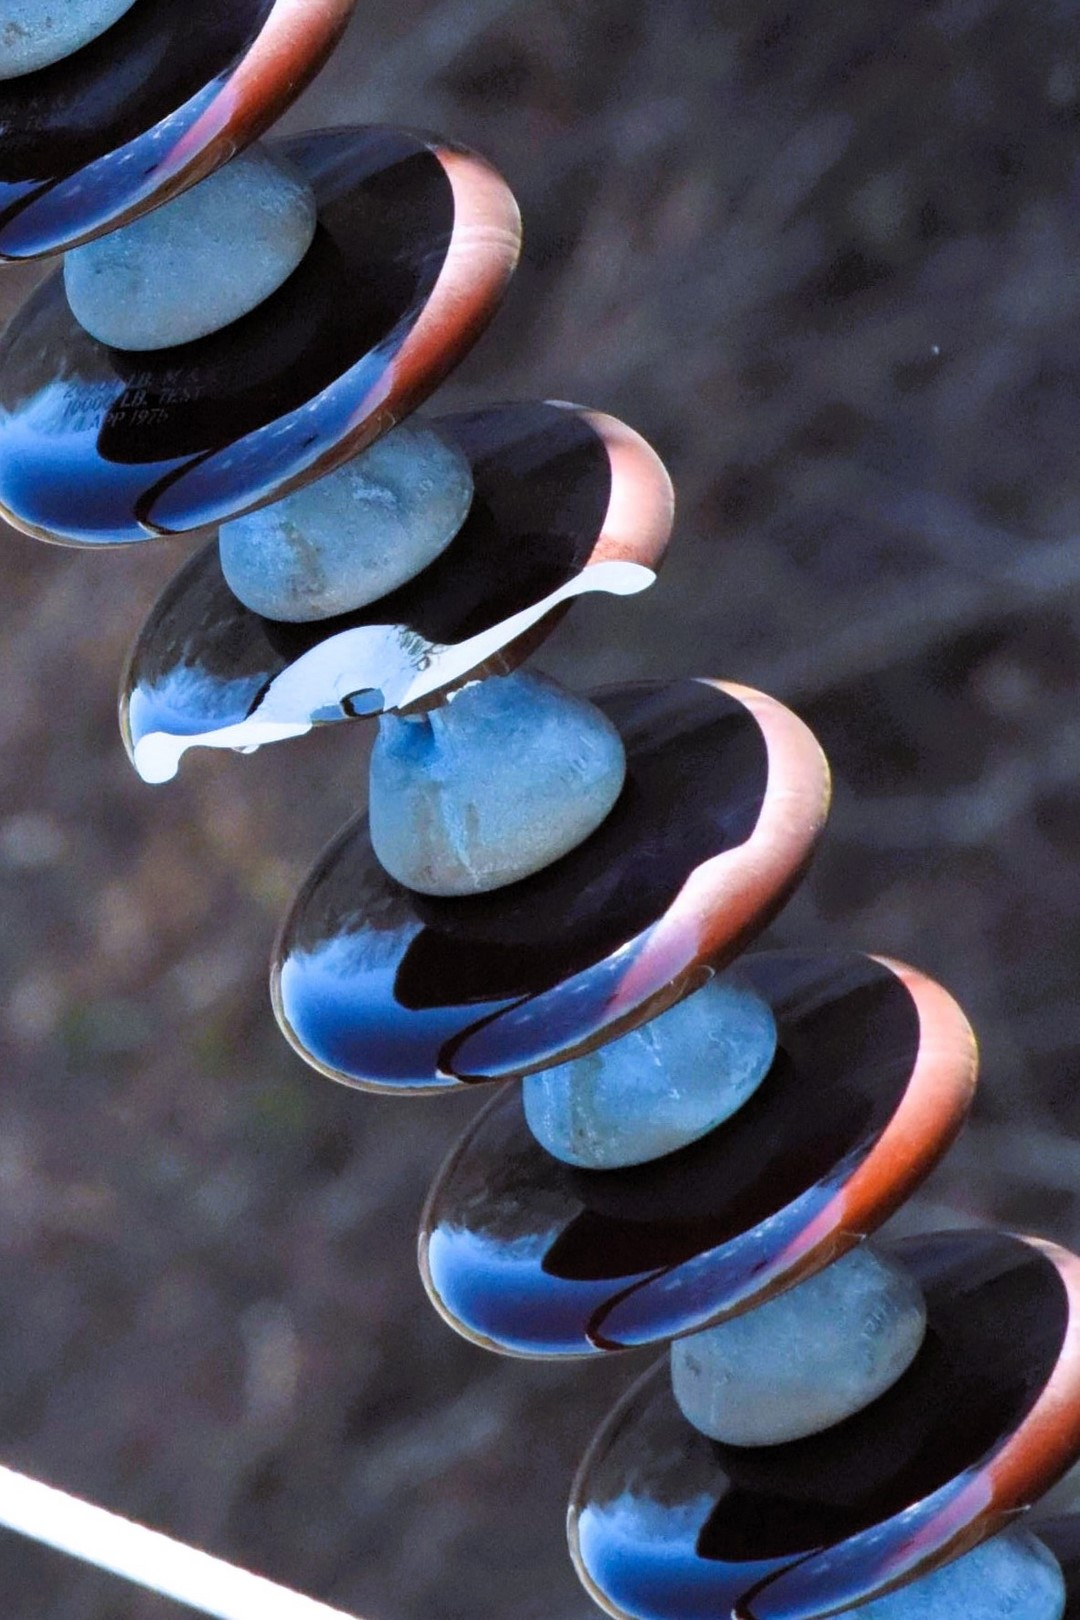insulator breakage: (105, 381, 685, 802)
